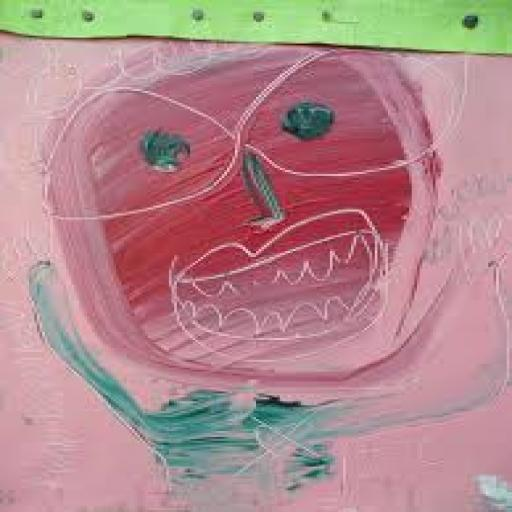person: (1, 33, 509, 510)
